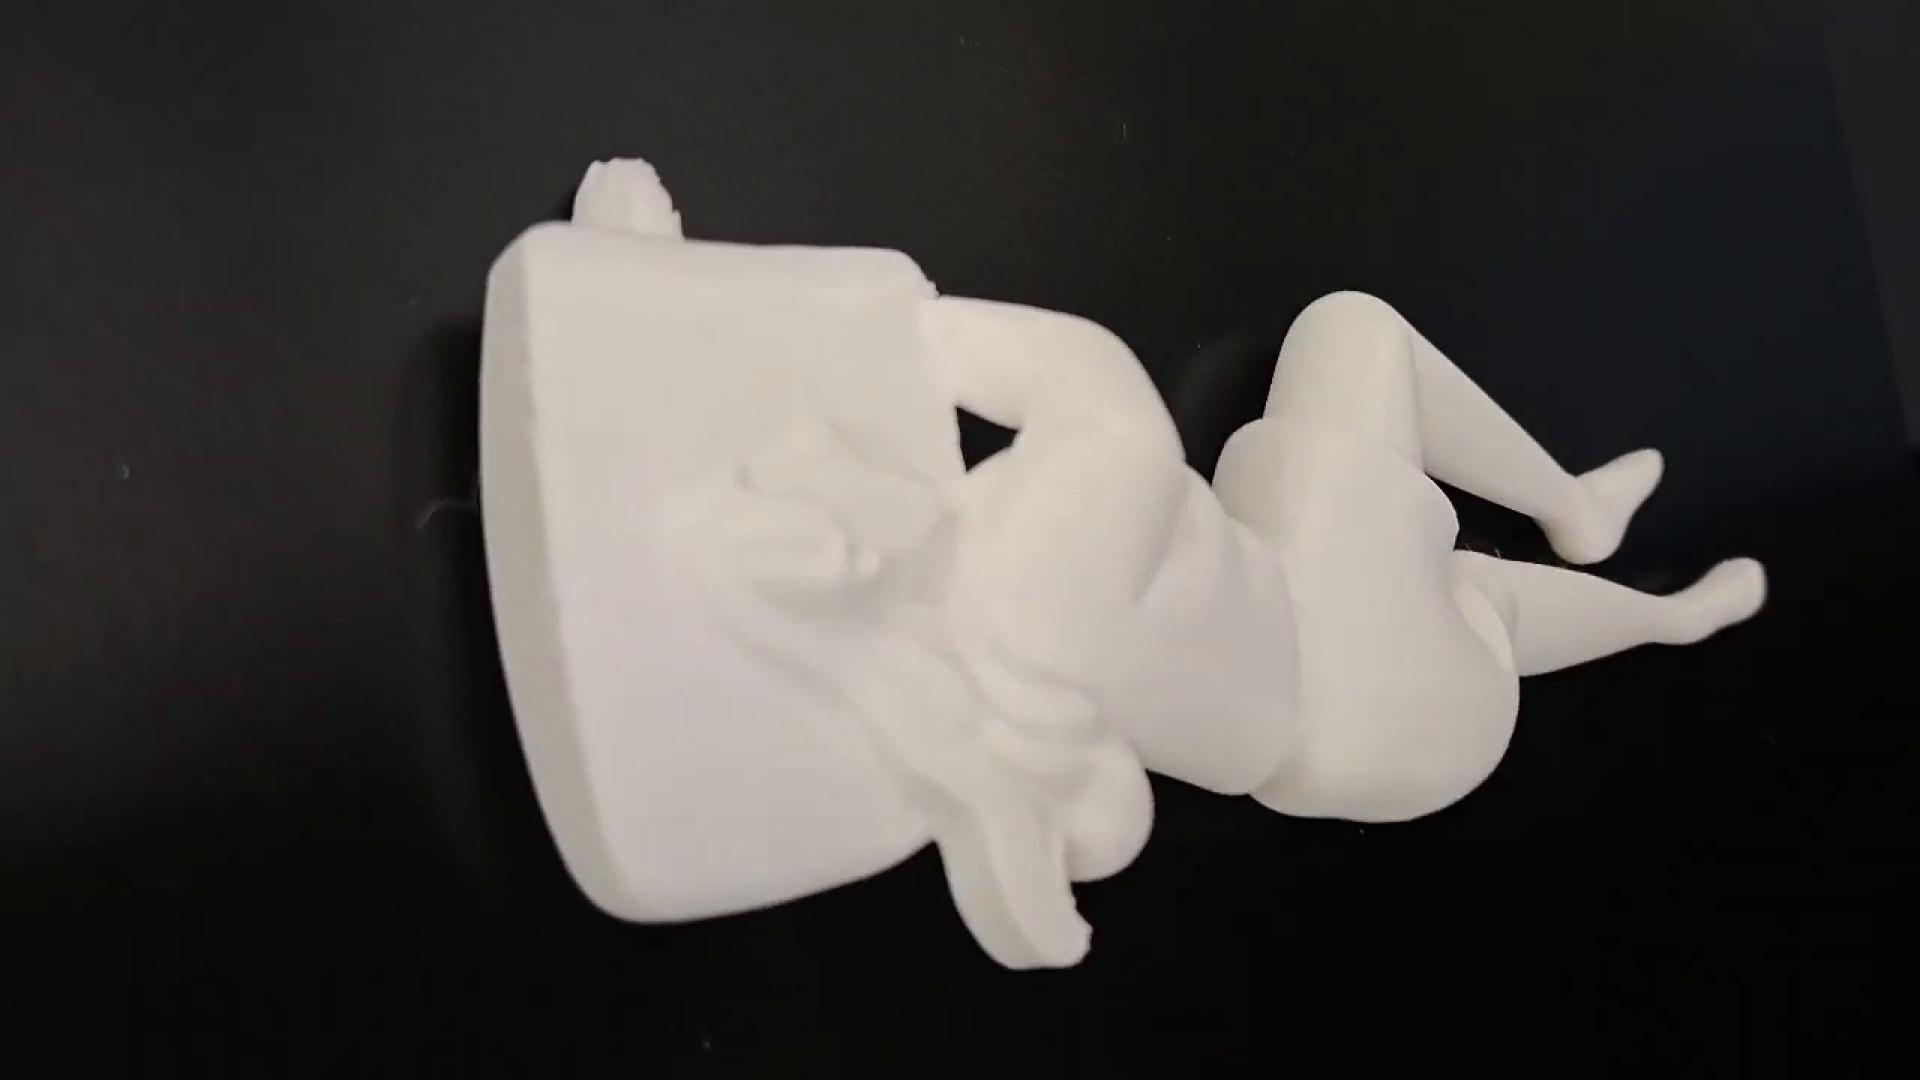Good-style: (477, 157, 1768, 976)
